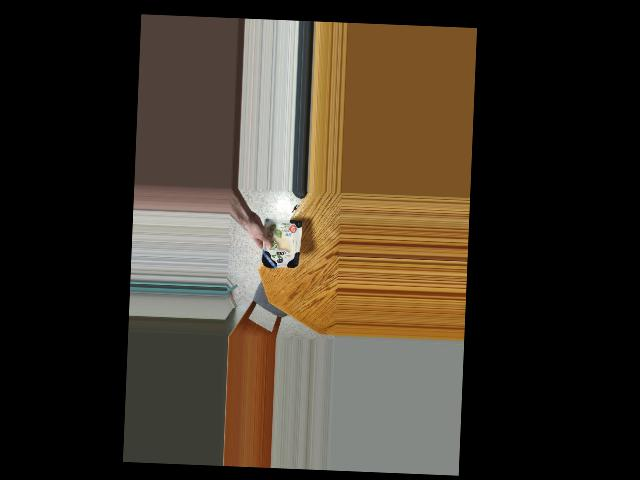cheese: (259, 207, 302, 280)
